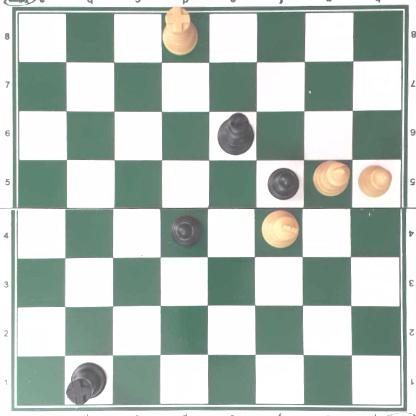black-king: (216, 111, 254, 156)
black-pawn: (266, 164, 298, 200), (169, 213, 200, 247)
black-rook: (66, 363, 107, 405)
white-bishop: (312, 160, 351, 197)
white-king: (262, 208, 299, 248)
white-pawn: (355, 163, 391, 195)
white-rook: (161, 5, 199, 55)
